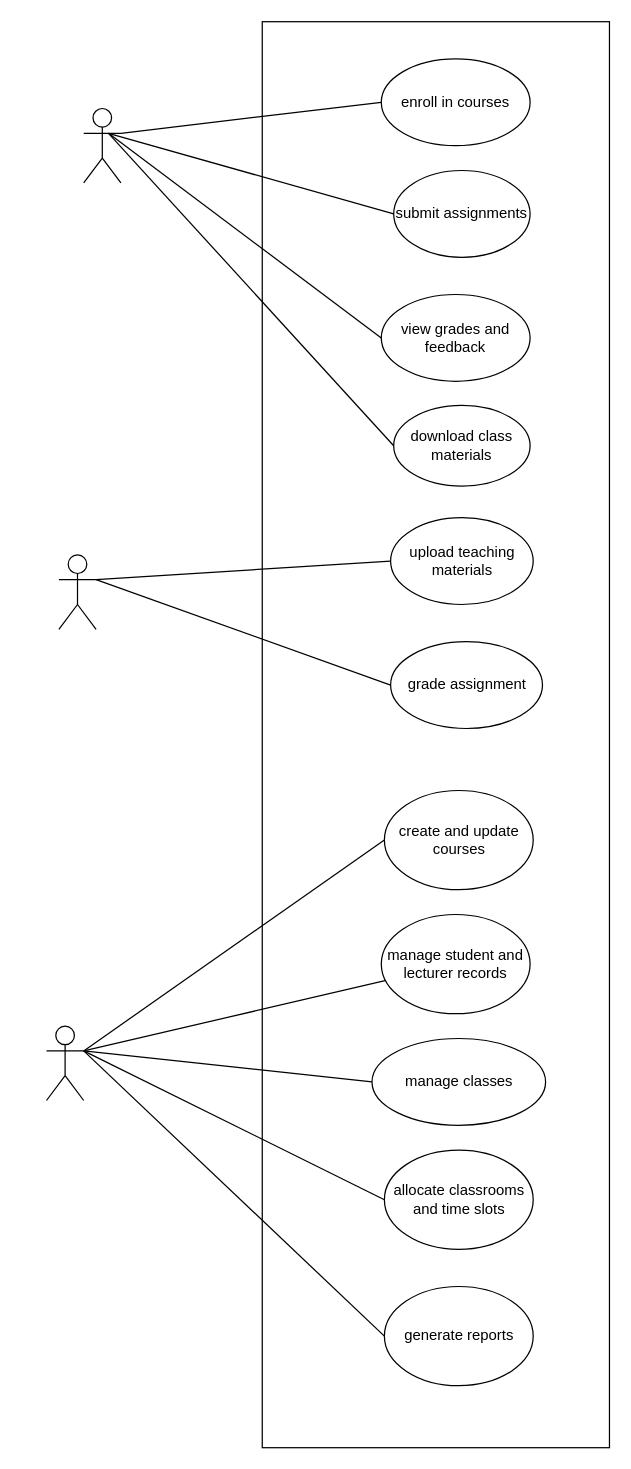
Image size: 631x1469. Some labels were removed from this diagram. Here are the shapes that lost their labels. From the top down, the box of each, then its label:
(82, 107, 121, 183): Student
(58, 554, 96, 629): lecturer
(45, 1025, 84, 1100): Administrator
